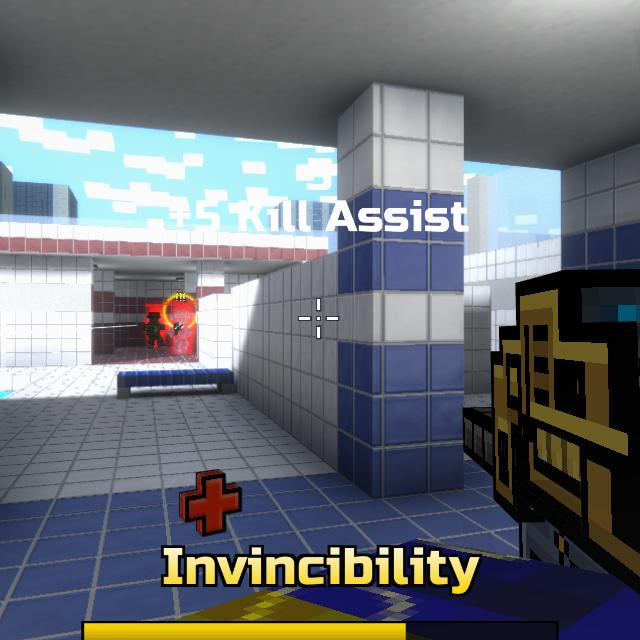Enemy: (169, 311, 194, 355), (143, 313, 165, 347)
